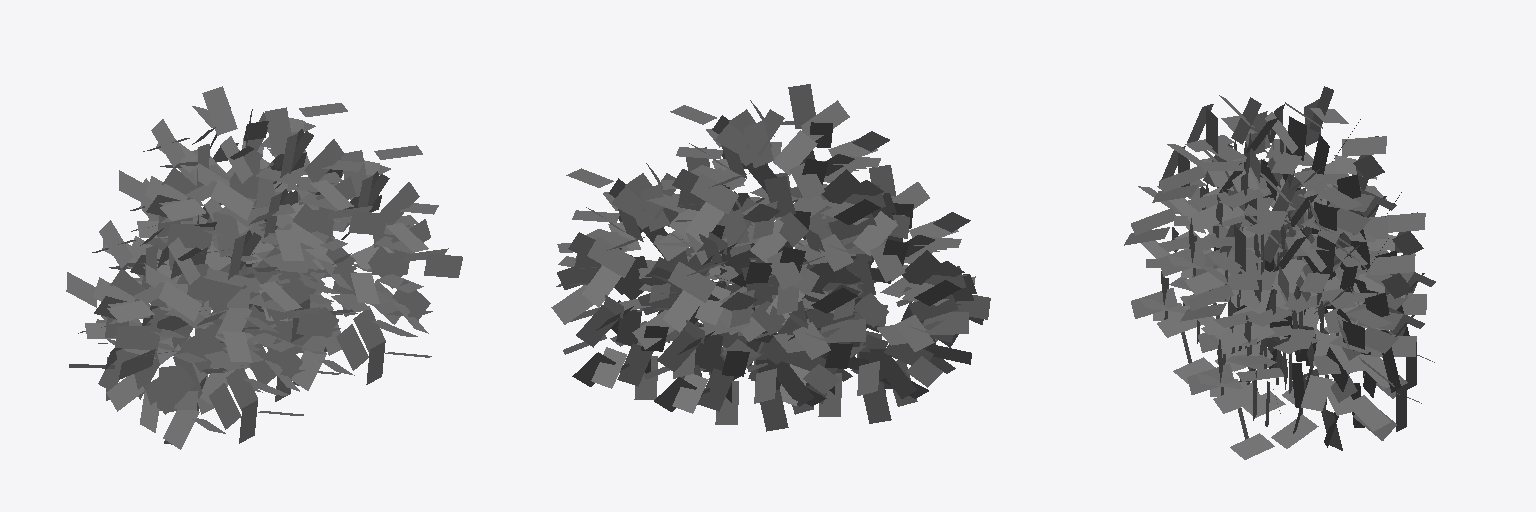
The model's file is cerisier01_leaf2.obj.
3 views of the same model, side by side, from view 1: azimuth 30°, elevation 25°; view 2: azimuth 150°, elevation 25°; view 3: azimuth 270°, elevation 25° (orthographic).
Size of the model in its own units: 5.86 by 4.3 by 4.14.